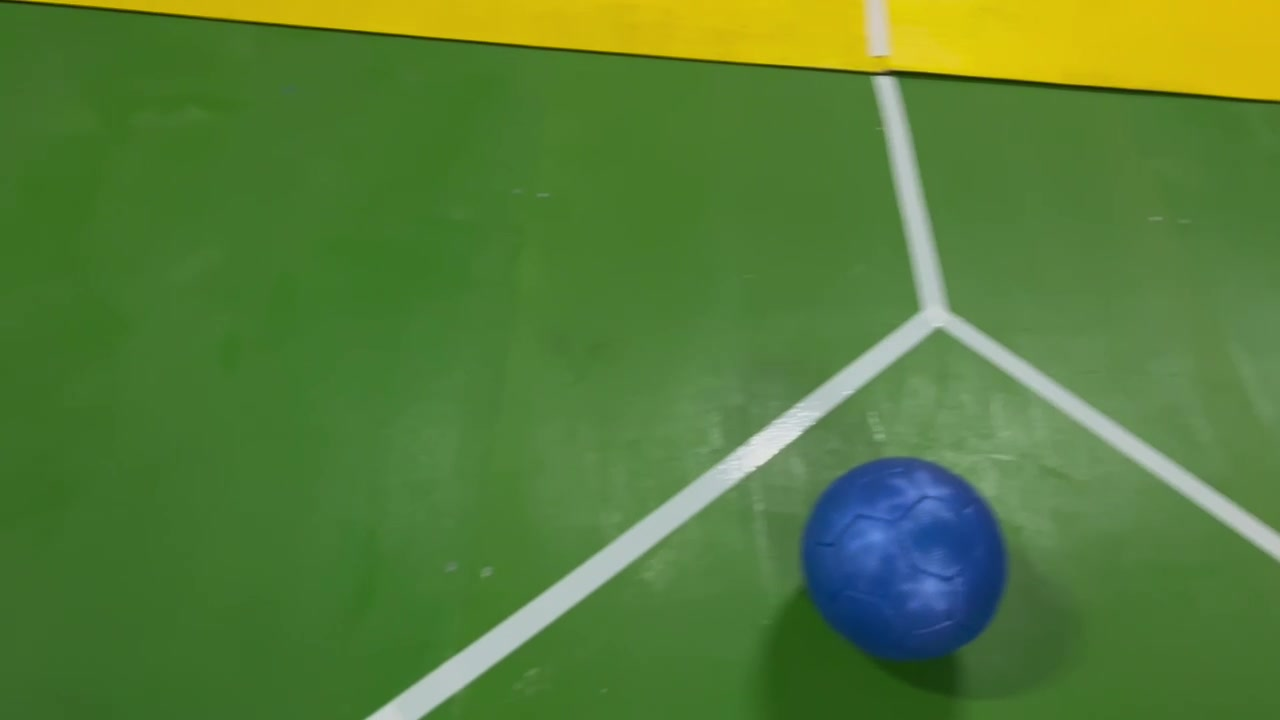blue: (799, 452, 1013, 664)
